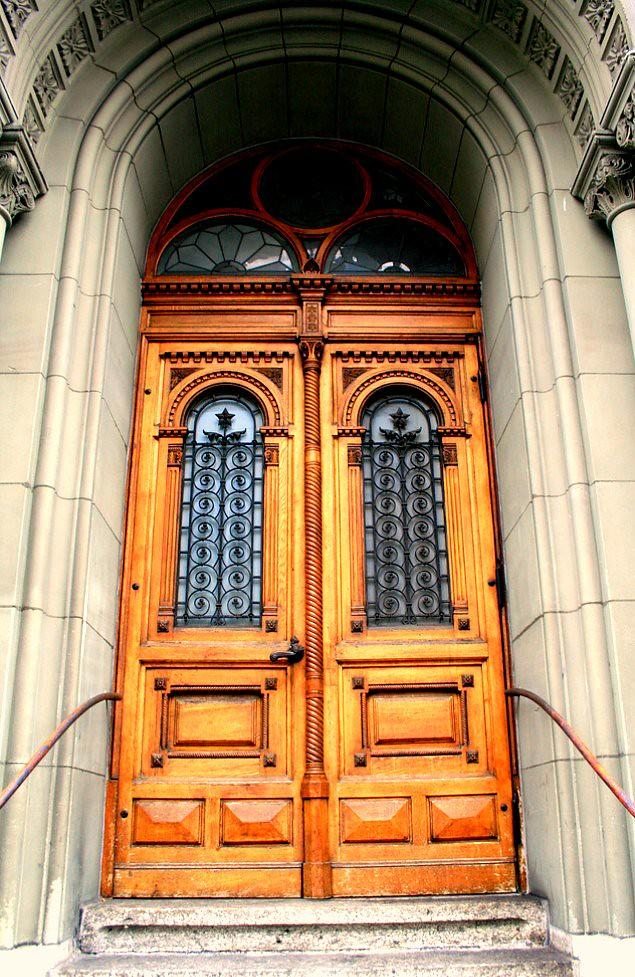door: (102, 278, 523, 901)
